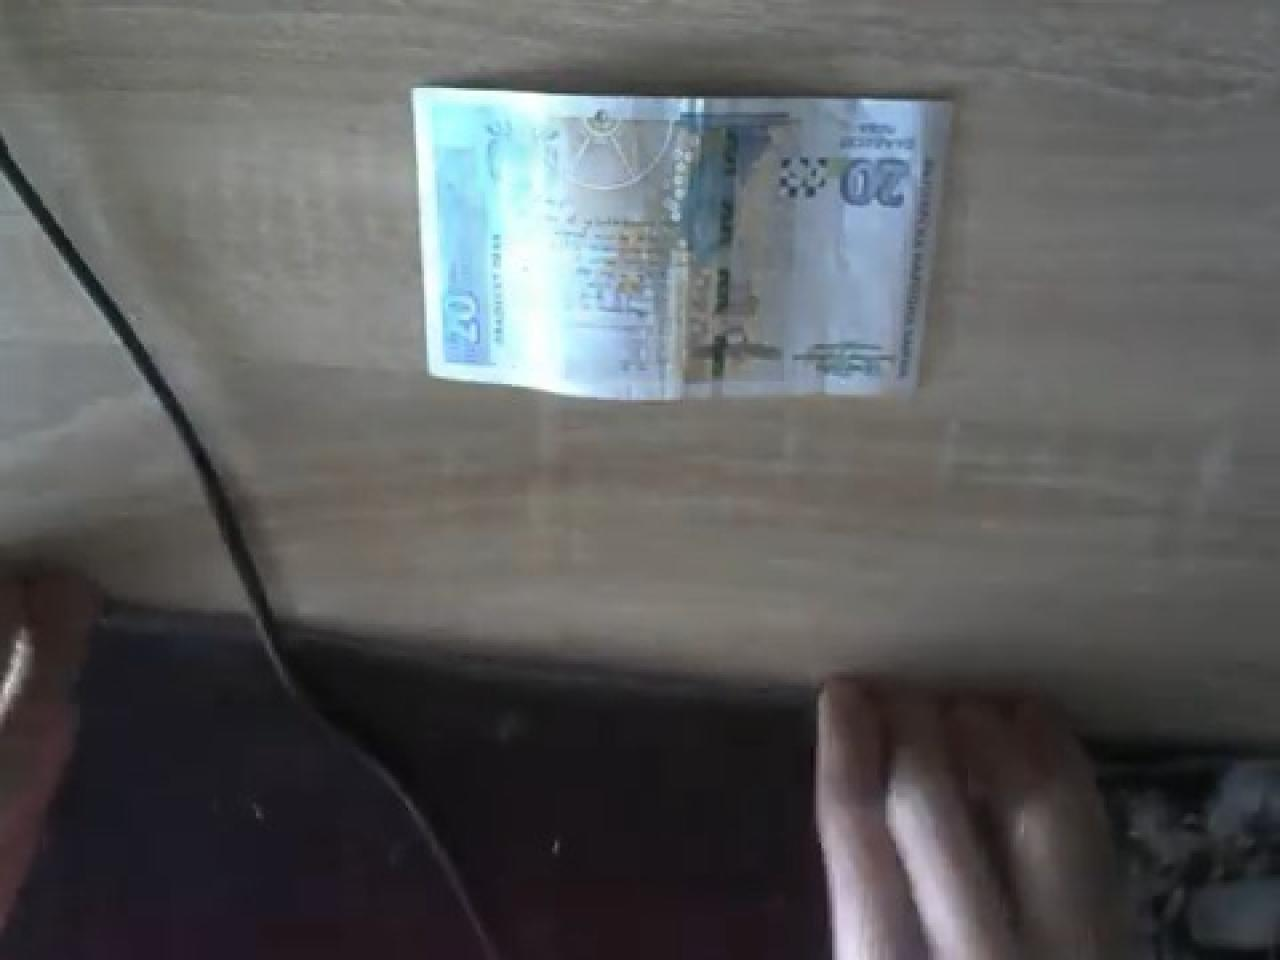20leva: (411, 86, 957, 407)
